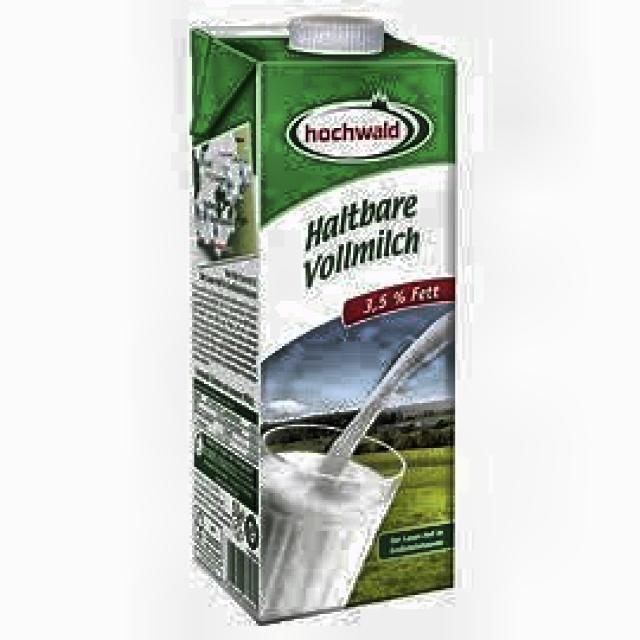cardboard: (188, 14, 458, 624)
